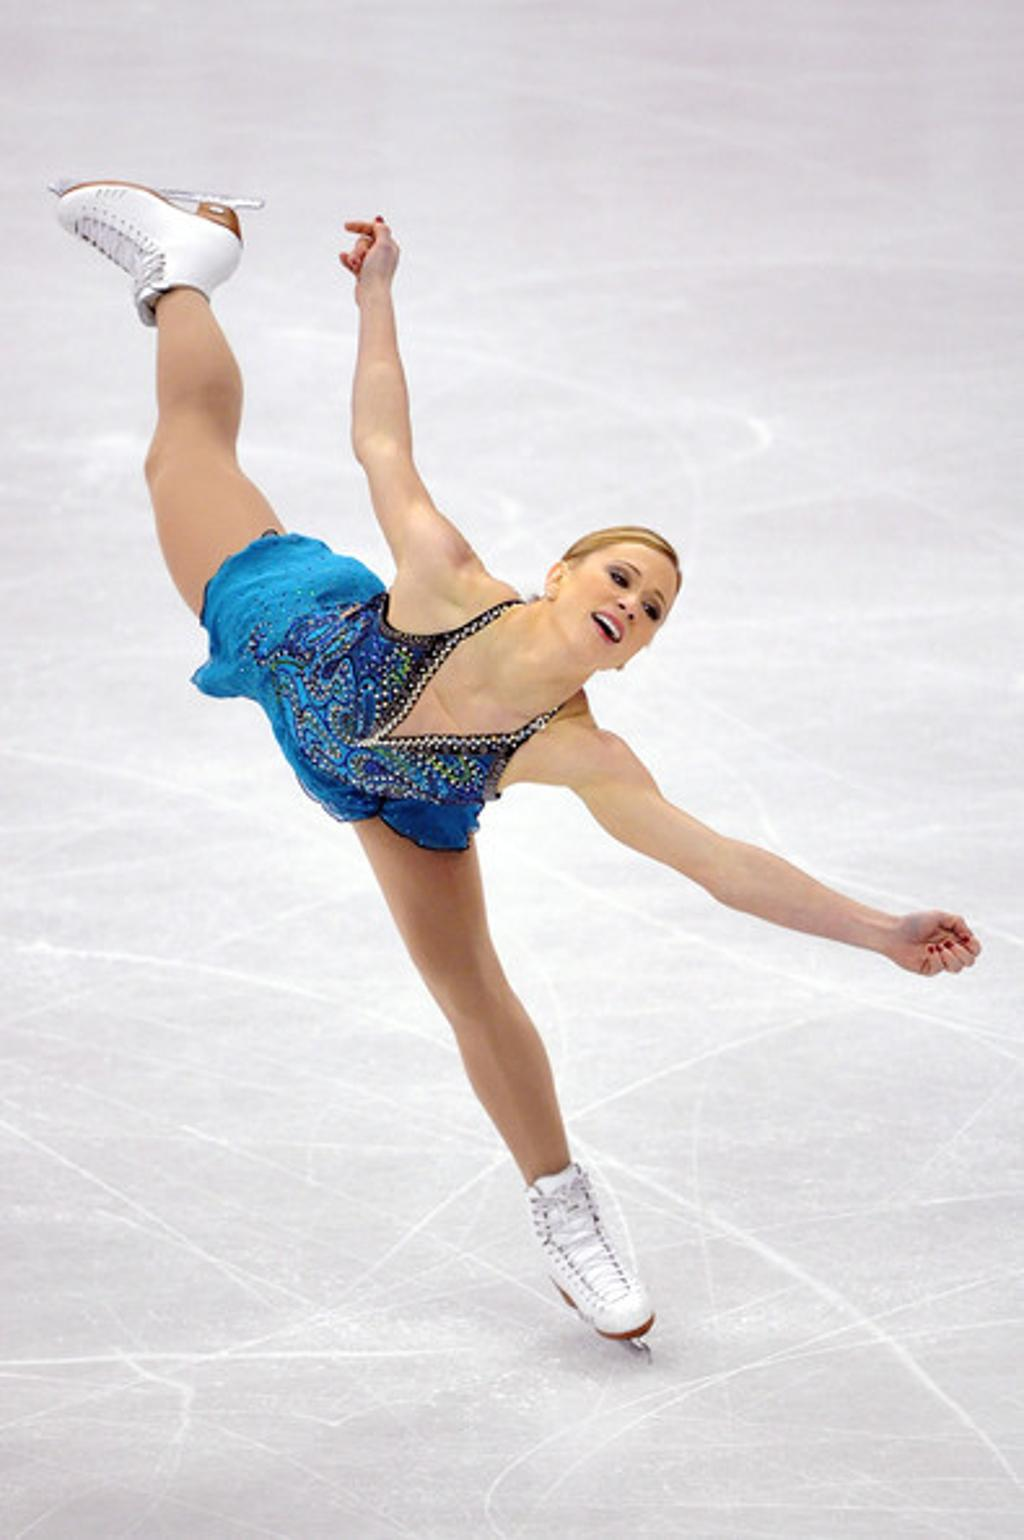face: (561, 540, 675, 657)
